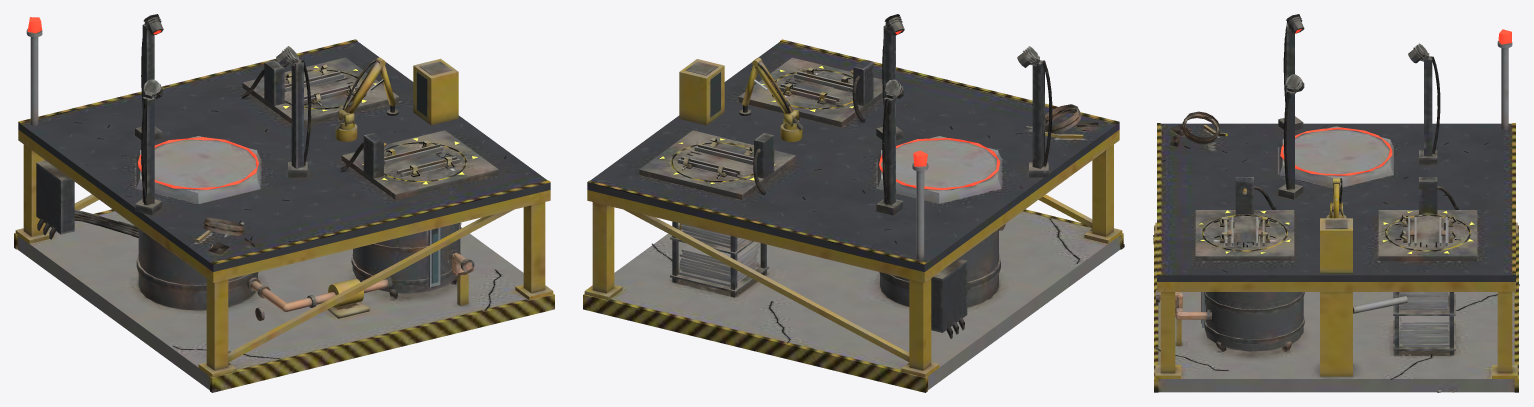
File: estacao_drones.glb
The picture shows the model from 3 angles, left to right: view 1: azimuth 30°, elevation 25°; view 2: azimuth 150°, elevation 25°; view 3: azimuth 270°, elevation 25°; orthographic projection. The views are drawn at different scales.
Parts seen in each view (by area): view 1: estacao_drones_corpo, berco0_luzes, estacao_drones_m10, estacao_drones_m9; view 2: estacao_drones_corpo, berco0_luzes, estacao_drones_m10, estacao_drones_m9; view 3: estacao_drones_corpo, berco0_luzes.
Boxes of the visible parts, left/top/right/bottom form: estacao_drones_corpo: left=14, top=14, right=554, bottom=392; berco0_luzes: left=27, top=17, right=477, bottom=189; estacao_drones_m10: left=340, top=59, right=382, bottom=119; estacao_drones_m9: left=335, top=109, right=357, bottom=141; estacao_drones_corpo: left=583, top=14, right=1124, bottom=392; berco0_luzes: left=659, top=30, right=1000, bottom=189; estacao_drones_m10: left=755, top=61, right=797, bottom=119; estacao_drones_m9: left=780, top=109, right=802, bottom=141; estacao_drones_corpo: left=1153, top=14, right=1519, bottom=392; berco0_luzes: left=1199, top=29, right=1511, bottom=253.
Bounding box in the file's own units: 2 × 1.4 × 2.
Materials: 3 (1 with a texture image).
